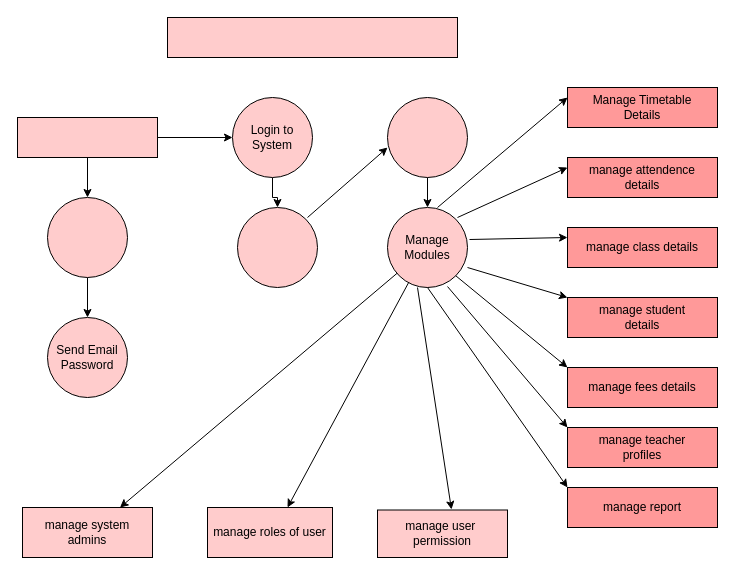
Image size: 735x575. Some labels were removed from this diagram. The shapes that lost their labels are listed below. From the top down, each one's box as (x1, y1, x2, y2) in pixels, then its label:
(166, 16, 458, 58): Standard Information Syatem
(16, 116, 158, 158): Admin
(386, 96, 468, 178): Check Roles of Access
(46, 196, 128, 278): Forgot Password
(236, 206, 318, 288): Check Credentials
